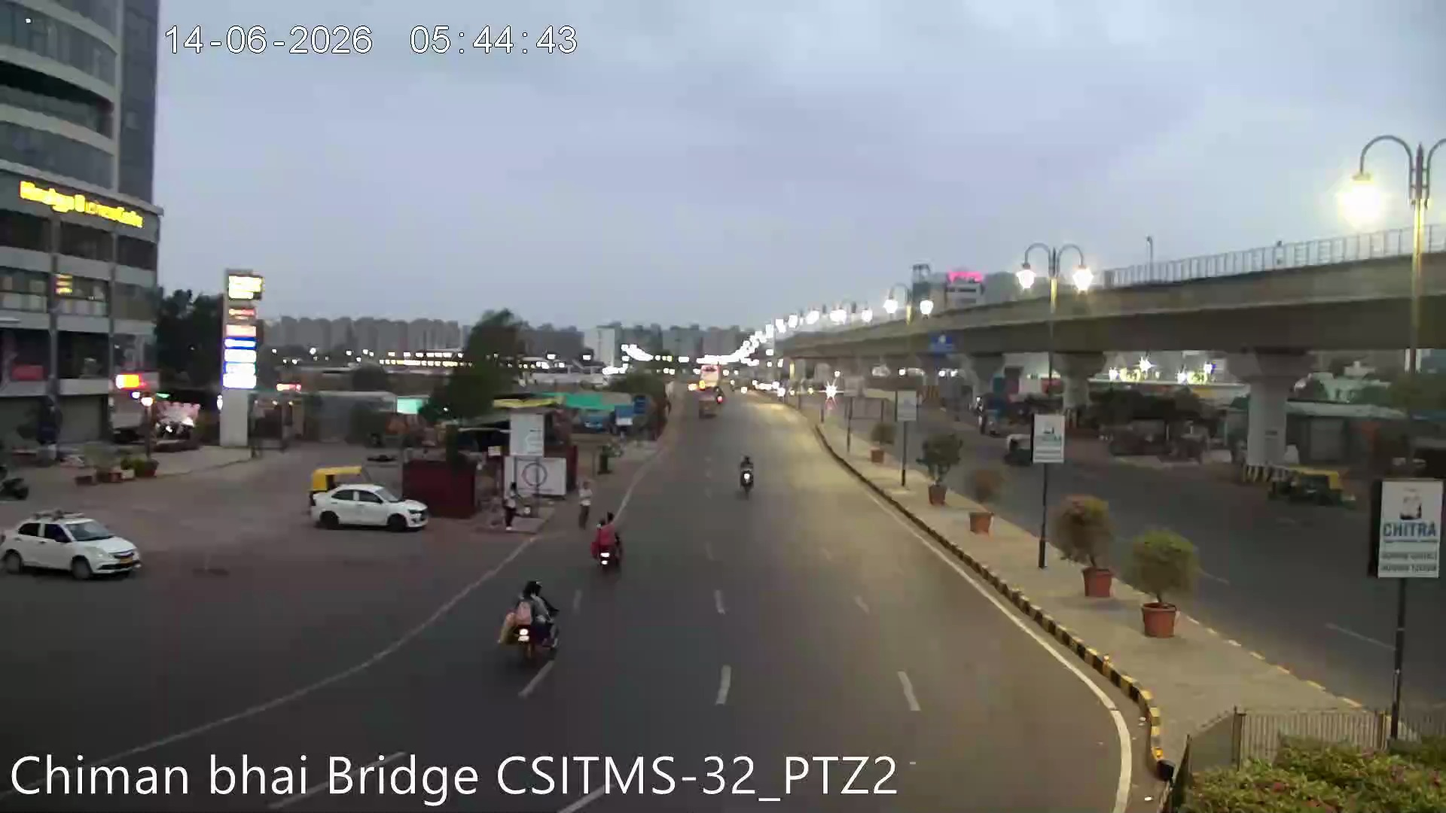auto_rickshaw: (1273, 462, 1350, 509), (1002, 428, 1035, 467), (696, 385, 724, 418)
car: (0, 504, 145, 584), (307, 476, 430, 537)
pedestrian: (499, 478, 521, 533), (575, 475, 595, 531)
two_wheeler: (497, 576, 563, 670), (588, 511, 626, 573), (733, 448, 760, 500)
